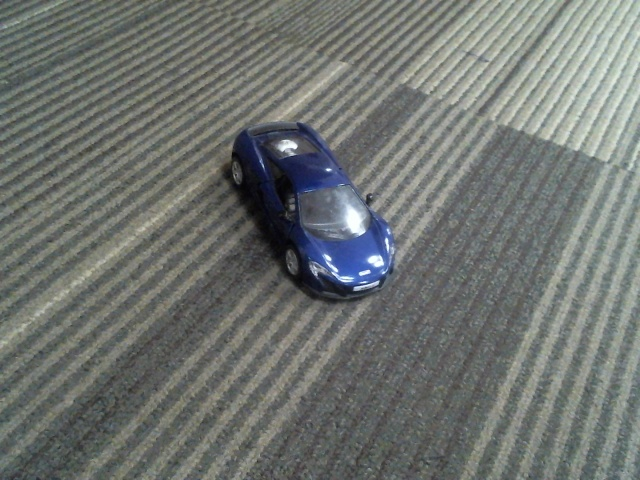car: (230, 121, 396, 301)
